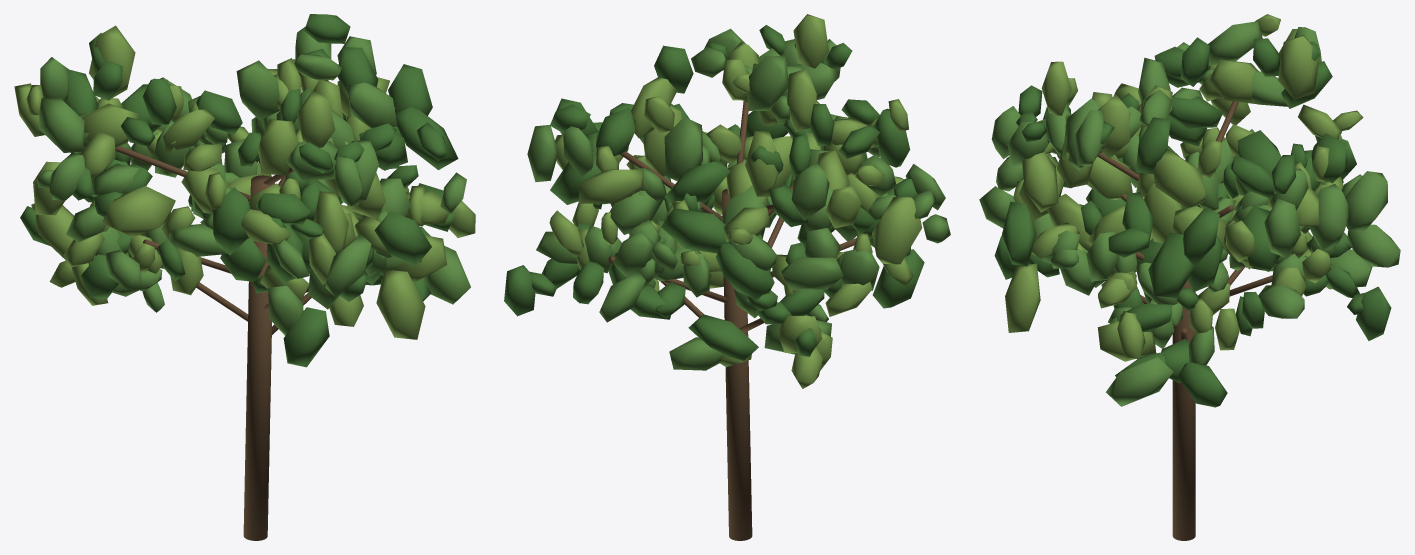
File: tree.glb
3 views of the same model, side by side, from view 1: azimuth 30°, elevation 25°; view 2: azimuth 150°, elevation 25°; view 3: azimuth 270°, elevation 25° (orthographic). The views are drawn at different scales.
Parts seen in each view (by area): view 1: Leaf spray.002, Leaf spray, Leaf spray.001, Trunk; view 2: Leaf spray.001, Leaf spray, Leaf spray.002, Trunk; view 3: Leaf spray.002, Leaf spray.001, Leaf spray, Trunk.
Boxes of the visible parts, left/top/right/bottom form: Leaf spray.002: left=14, top=25, right=475, bottom=339; Leaf spray: left=20, top=14, right=458, bottom=367; Leaf spray.001: left=36, top=26, right=470, bottom=335; Trunk: left=115, top=146, right=311, bottom=540; Leaf spray.001: left=527, top=28, right=950, bottom=370; Leaf spray: left=504, top=25, right=924, bottom=360; Leaf spray.002: left=549, top=14, right=921, bottom=388; Trunk: left=608, top=101, right=856, bottom=540; Leaf spray.002: left=1005, top=14, right=1363, bottom=361; Leaf spray.001: left=979, top=21, right=1400, bottom=406; Leaf spray: left=994, top=37, right=1391, bottom=407; Trunk: left=1097, top=101, right=1272, bottom=540.
Size of the model in its own units: 6.52 by 7.67 by 6.21.
